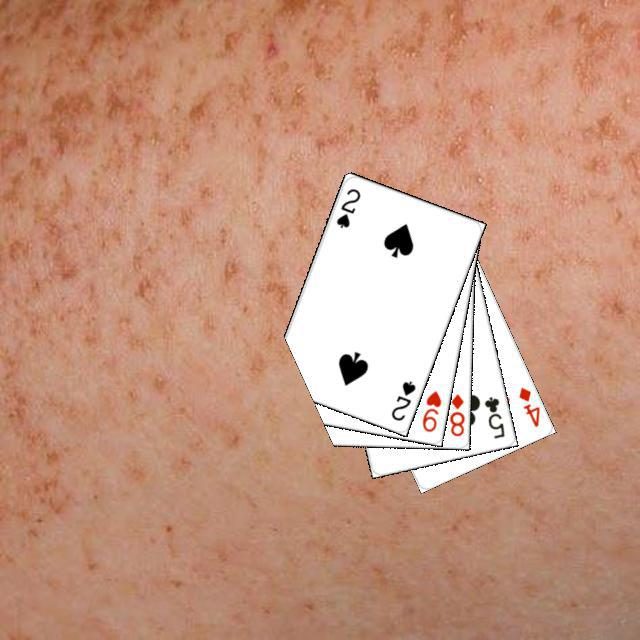2s: (331, 183, 362, 230), (386, 376, 417, 422)
4d: (514, 382, 542, 429)
5c: (479, 392, 506, 440)
8d: (445, 389, 466, 438)
9h: (417, 386, 443, 434)
